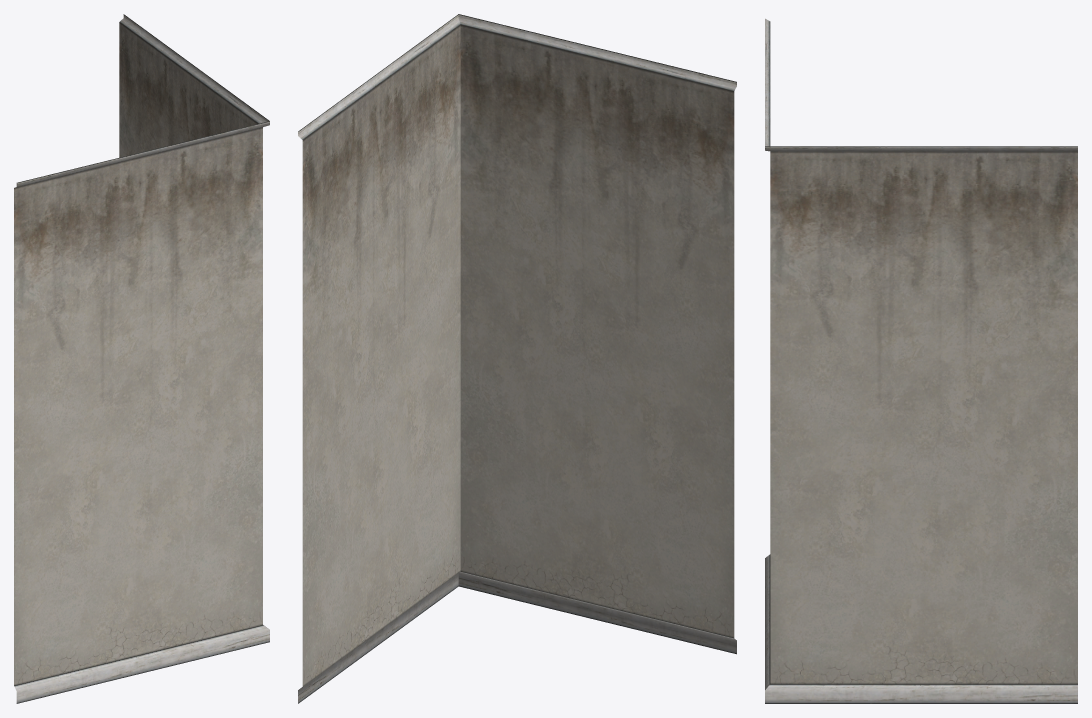
The model's file is livingroom_damaged_convex.dae.
3 renders of one model, left to right at view 1: azimuth 30°, elevation 25°; view 2: azimuth 150°, elevation 25°; view 3: azimuth 270°, elevation 25°, orthographic. The views are drawn at different scales.
Visible parts, largest first — view 1: polySurface2; view 2: polySurface2; view 3: polySurface2.
Boxes of the visible parts, box(x1,y1,x2,y2) form: polySurface2: box(14, 14, 269, 703); polySurface2: box(298, 14, 736, 703); polySurface2: box(765, 18, 1077, 703).
Bounding box in the file's own units: 2.03 × 4 × 2.03.
